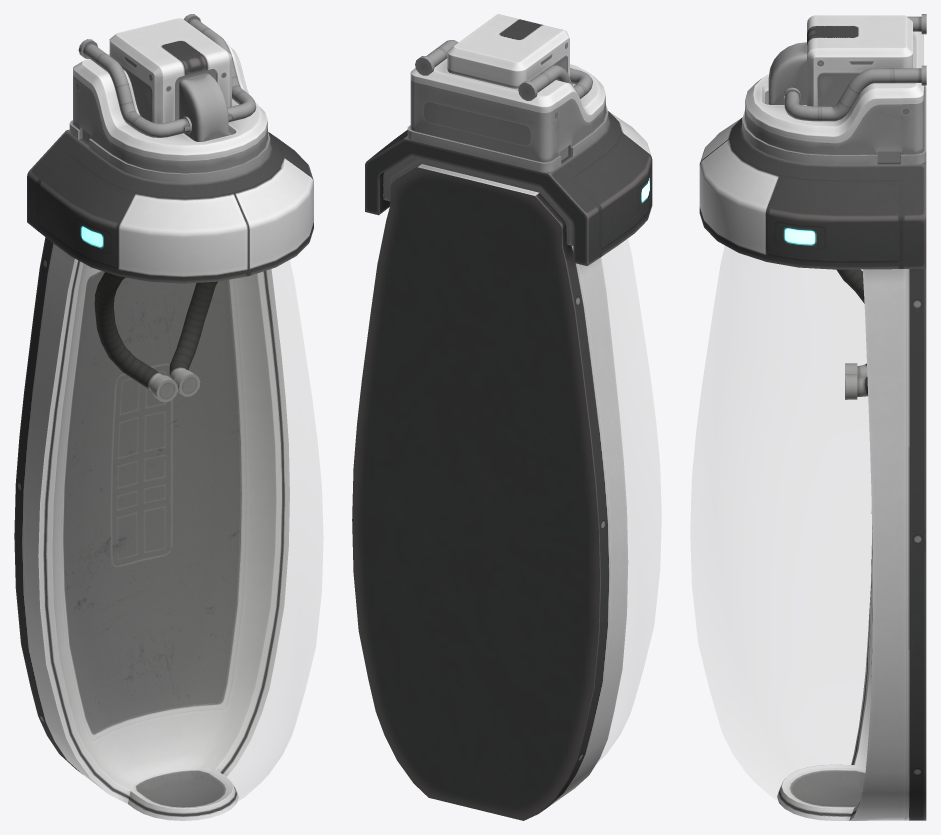
The model's file is LabCapsule07.FBX.
3 views of the same model, side by side, from view 1: azimuth 30°, elevation 25°; view 2: azimuth 150°, elevation 25°; view 3: azimuth 270°, elevation 25° (orthographic). The views are drawn at different scales.
Parts seen in each view (by area): view 1: LabCapsule07, Glass; view 2: LabCapsule07, Glass; view 3: LabCapsule07, Glass.
Boxes of the visible parts, box(x1,y1,x2,y2) form: LabCapsule07: box(14, 14, 313, 820); Glass: box(115, 260, 322, 805); LabCapsule07: box(352, 14, 652, 820); Glass: box(598, 239, 661, 761); LabCapsule07: box(699, 14, 926, 820); Glass: box(691, 246, 871, 805).
Size of what is drawn, in the model's own units: 1.05 by 2.98 by 0.8364.
